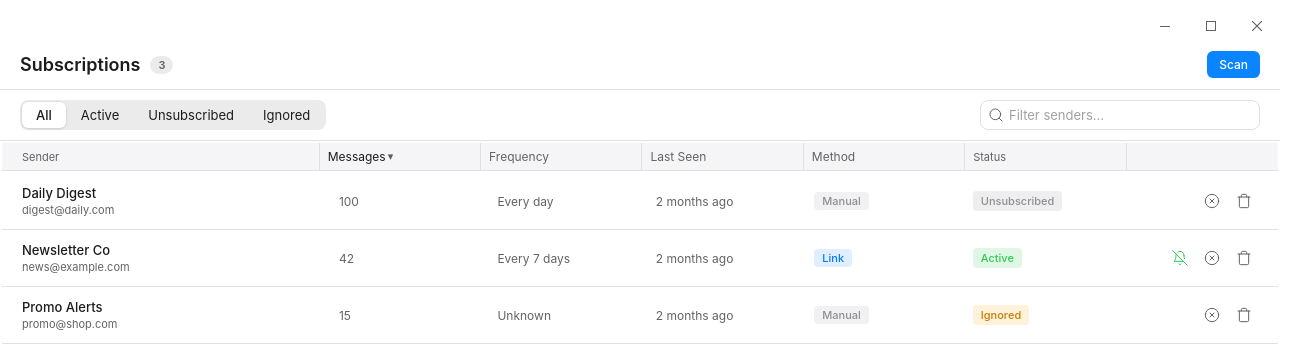
Scenario: Subscriptions.svelte › search input filters by sender name/email
The image size is (1292, 361).
Type "digest" into the field with placeholder "Filter senders..." at (1120, 115), box [980, 100, 1260, 130]
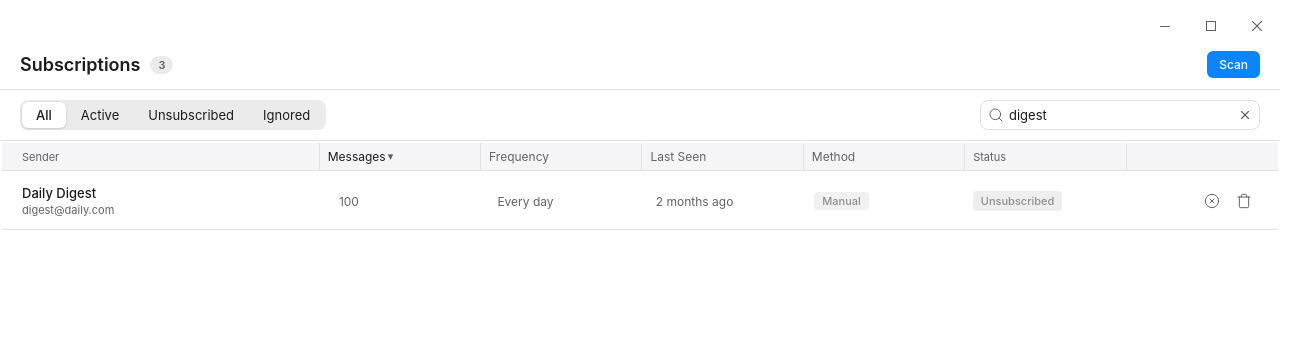
Check: the text "Daily Digest" is shown, box [22, 185, 96, 201]
Check: the text "Newsletter Co" is gone
